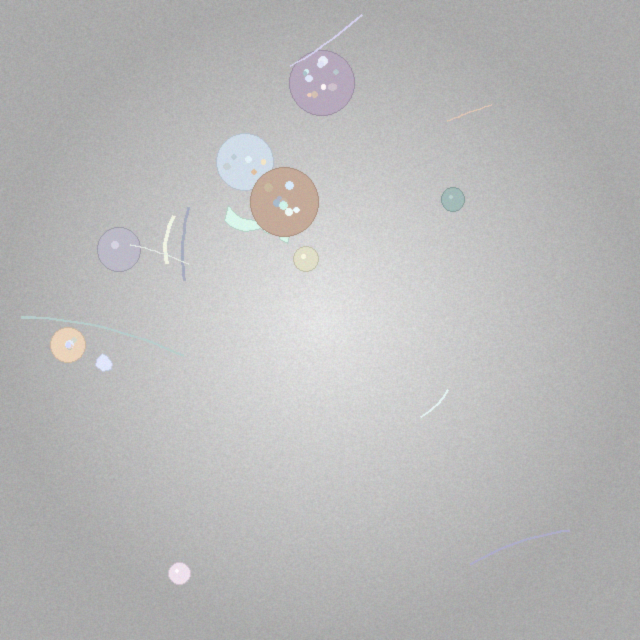fiber: (18, 314, 187, 359), (466, 527, 573, 569), (289, 13, 364, 69), (129, 242, 190, 266), (444, 103, 495, 124), (179, 204, 192, 284), (160, 212, 178, 268), (419, 388, 450, 420)
film: (224, 206, 292, 243)
foam: (250, 168, 319, 236), (290, 51, 354, 115), (216, 134, 274, 191), (51, 328, 86, 363)
fragment: (96, 353, 113, 371)
pellet: (97, 228, 141, 271), (293, 246, 318, 271), (441, 188, 465, 211), (168, 562, 191, 585)
